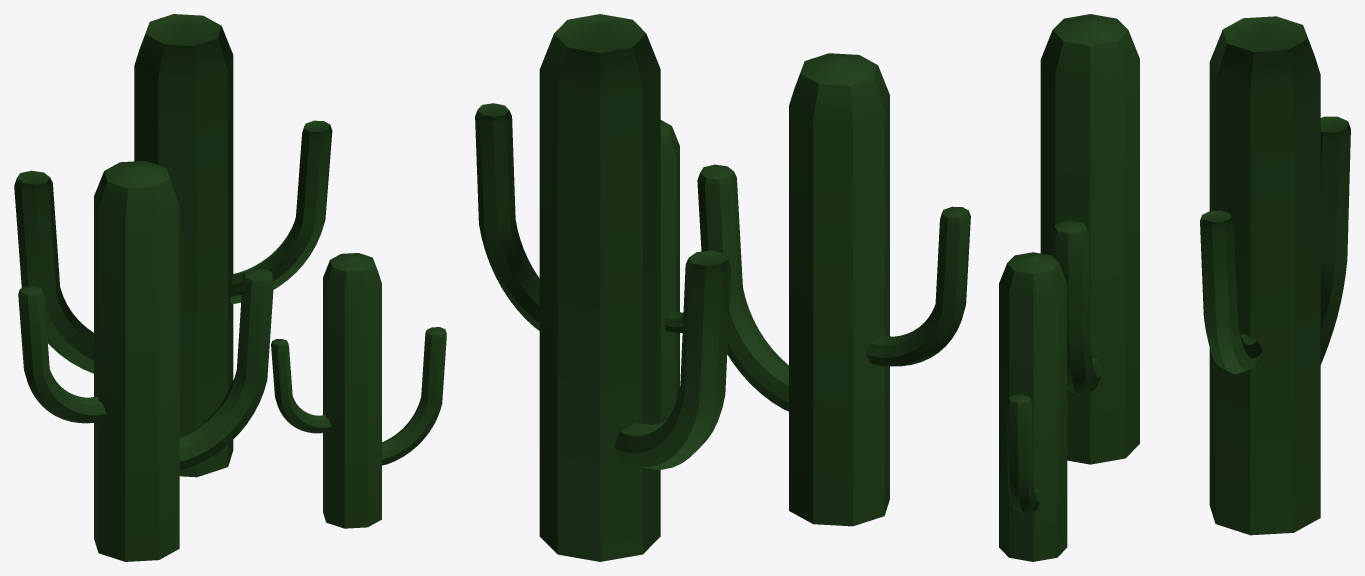
File: 선인장.fbx
3 renders of one model, left to right at view 1: azimuth 30°, elevation 25°; view 2: azimuth 150°, elevation 25°; view 3: azimuth 270°, elevation 25°, orthographic. The views are drawn at different scales.
Visible parts, largest first — view 1: Cylinder001; view 2: Cylinder001; view 3: Cylinder001.
Part boxes in pixels (x1,y1,x2,y2): Cylinder001: (14, 14, 446, 561); Cylinder001: (475, 14, 970, 561); Cylinder001: (999, 14, 1350, 561).
Bounding box in the file's own units: 177 × 188 × 123.
